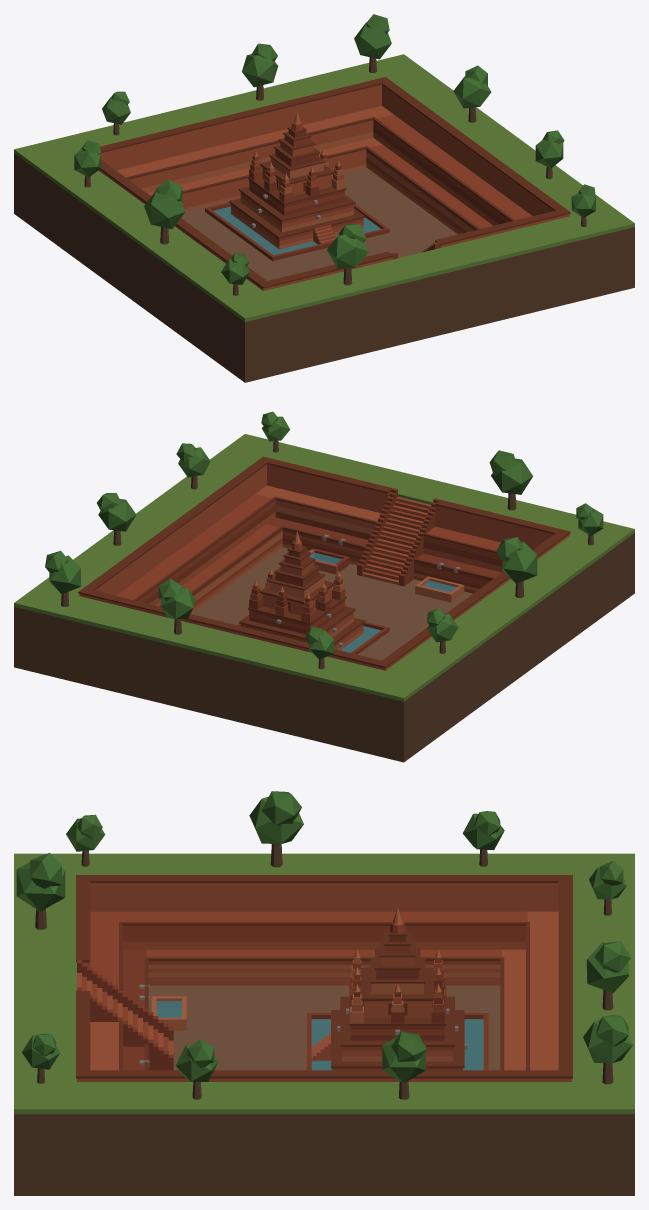
Rendered from candi-tikus.glb.
3 views of the same model, one above another, from view 1: azimuth 30°, elevation 25°; view 2: azimuth 150°, elevation 25°; view 3: azimuth 270°, elevation 25° (orthographic). The views are drawn at different scales.
Parts seen in each view (by area): view 1: soil, grass, brick2, cornice, leaf, floor, brick1, brick4, brick3, water, trunk; view 2: soil, grass, brick2, cornice, brick1, leaf, brick3, floor, brick4, trunk, water; view 3: grass, soil, brick2, cornice, brick1, leaf, floor, brick3, brick4, water, trunk.
Boxes of the visible parts, left/top/right/bottom form: soil: left=14, top=153, right=634, bottom=382; grass: left=14, top=54, right=634, bottom=321; brick2: left=99, top=84, right=569, bottom=290; cornice: left=100, top=77, right=570, bottom=288; leaf: left=74, top=14, right=595, bottom=284; floor: left=181, top=167, right=457, bottom=280; brick1: left=231, top=114, right=532, bottom=241; brick4: left=141, top=111, right=473, bottom=249; brick3: left=205, top=126, right=505, bottom=260; water: left=213, top=206, right=380, bottom=255; trunk: left=84, top=57, right=586, bottom=295; soil: left=14, top=533, right=634, bottom=762; grass: left=14, top=434, right=634, bottom=701; brick2: left=79, top=464, right=569, bottom=670; cornice: left=78, top=456, right=570, bottom=668; brick1: left=116, top=494, right=501, bottom=646; leaf: left=45, top=411, right=603, bottom=659; brick3: left=143, top=488, right=502, bottom=654; floor: left=191, top=547, right=472, bottom=660; brick4: left=190, top=505, right=479, bottom=650; trunk: left=61, top=440, right=593, bottom=669; water: left=309, top=552, right=456, bottom=652; grass: left=14, top=853, right=634, bottom=1114; soil: left=14, top=1114, right=634, bottom=1195; brick2: left=77, top=883, right=571, bottom=1081; cornice: left=76, top=875, right=572, bottom=1078; brick1: left=82, top=911, right=527, bottom=1070; leaf: left=16, top=791, right=632, bottom=1083; floor: left=148, top=985, right=500, bottom=1070; brick3: left=77, top=936, right=488, bottom=1070; brick4: left=148, top=907, right=500, bottom=1061; water: left=156, top=1001, right=483, bottom=1070; trunk: left=35, top=844, right=613, bottom=1099.
Bounding box in the file's own units: 1.27 × 0.3768 × 1.3.
